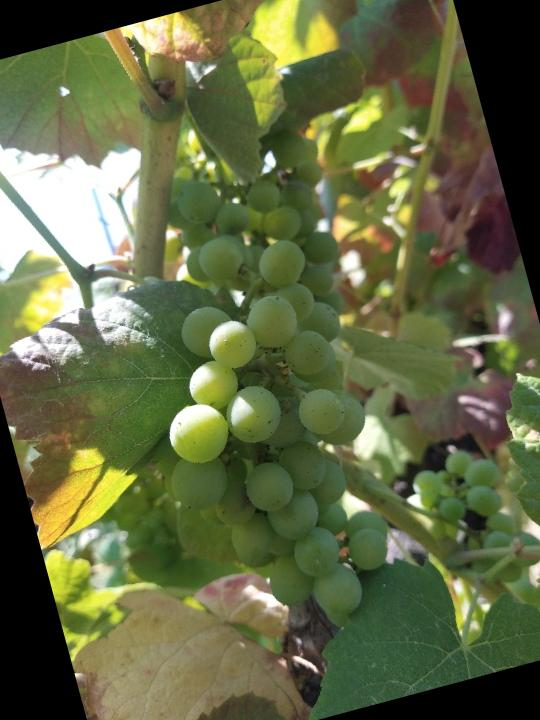grape: (101, 213, 413, 666)
